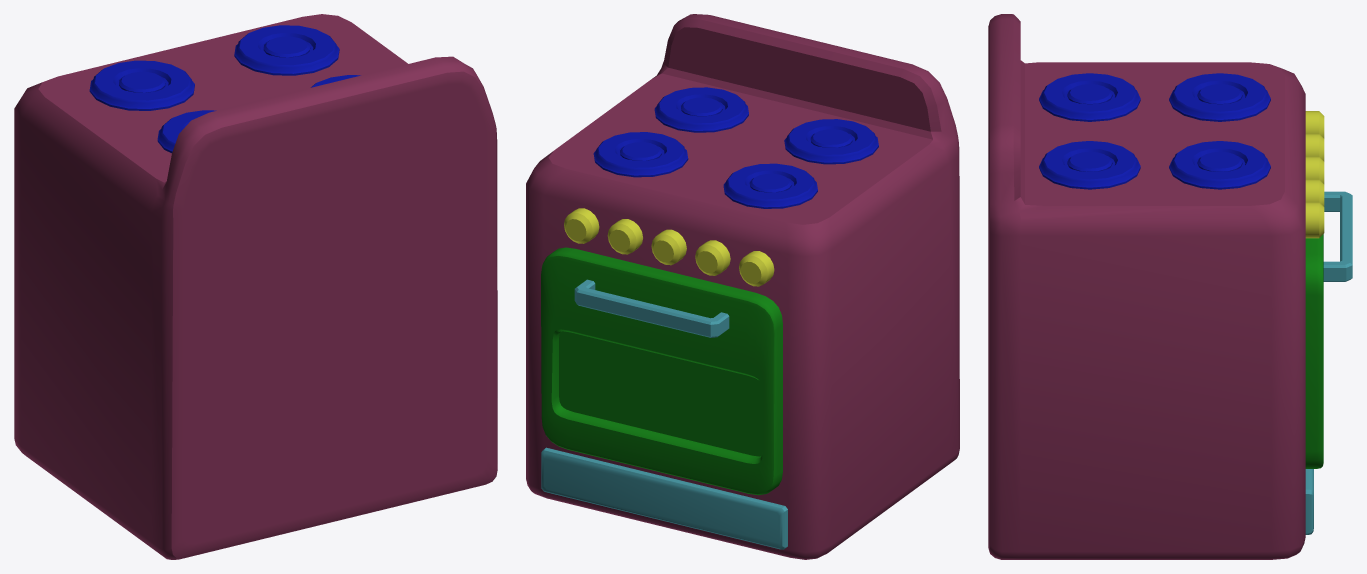
Rendered from Stove.FBX.
3 renders of one model, left to right at view 1: azimuth 30°, elevation 25°; view 2: azimuth 150°, elevation 25°; view 3: azimuth 270°, elevation 25°, orthographic. The views are drawn at different scales.
Visible parts, largest first — view 1: Stove; view 2: Stove; view 3: Stove.
Part boxes in pixels (left/top/right/bottom): Stove: left=14, top=14, right=497, bottom=559; Stove: left=526, top=14, right=959, bottom=559; Stove: left=988, top=14, right=1352, bottom=559.
Size of the model in its own units: 737 by 726 by 909.
